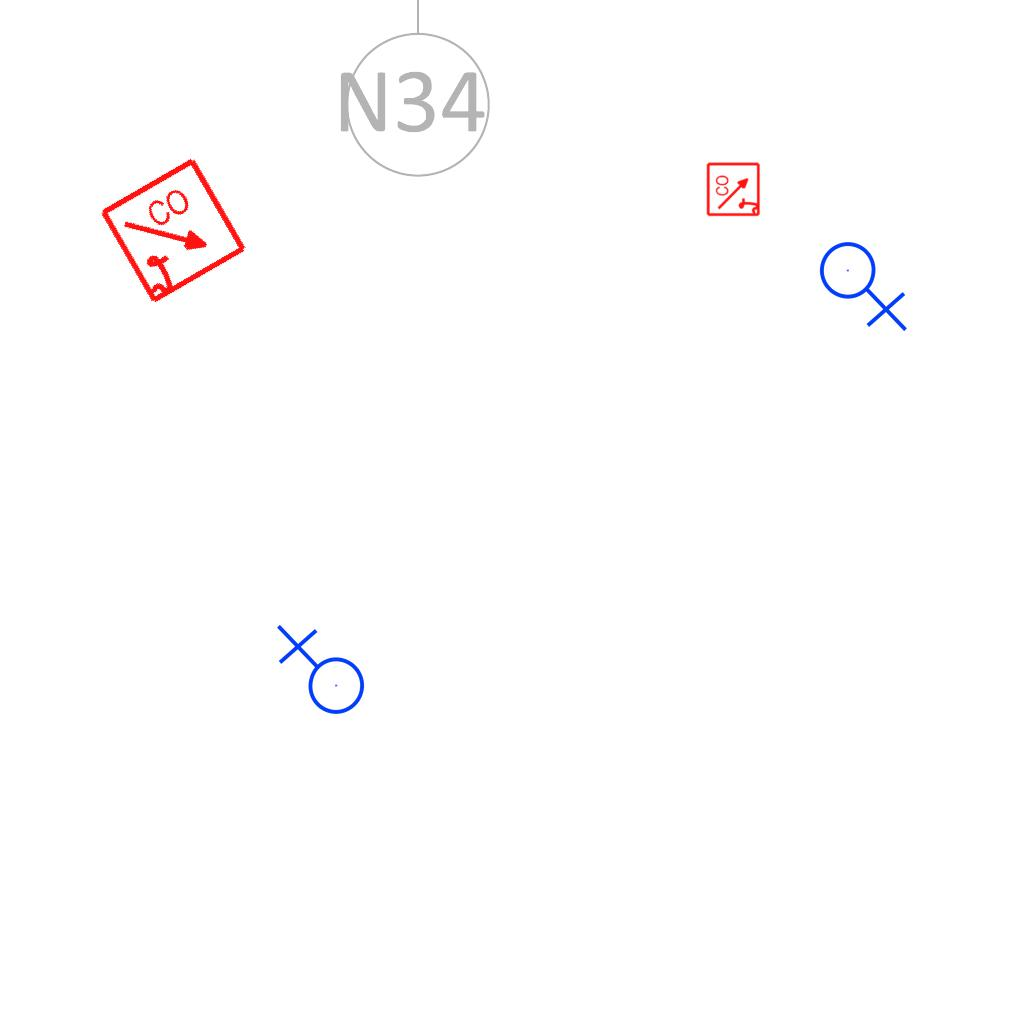Elektroanschluss_allgemein_230V_Geraeteanschlussdose_230V: (818, 233, 912, 332), (272, 624, 366, 723)
ROA_Rauchmelder_optisch_mit_Signalgeber_(Sockelsirene): (97, 154, 252, 309), (706, 161, 762, 217)
